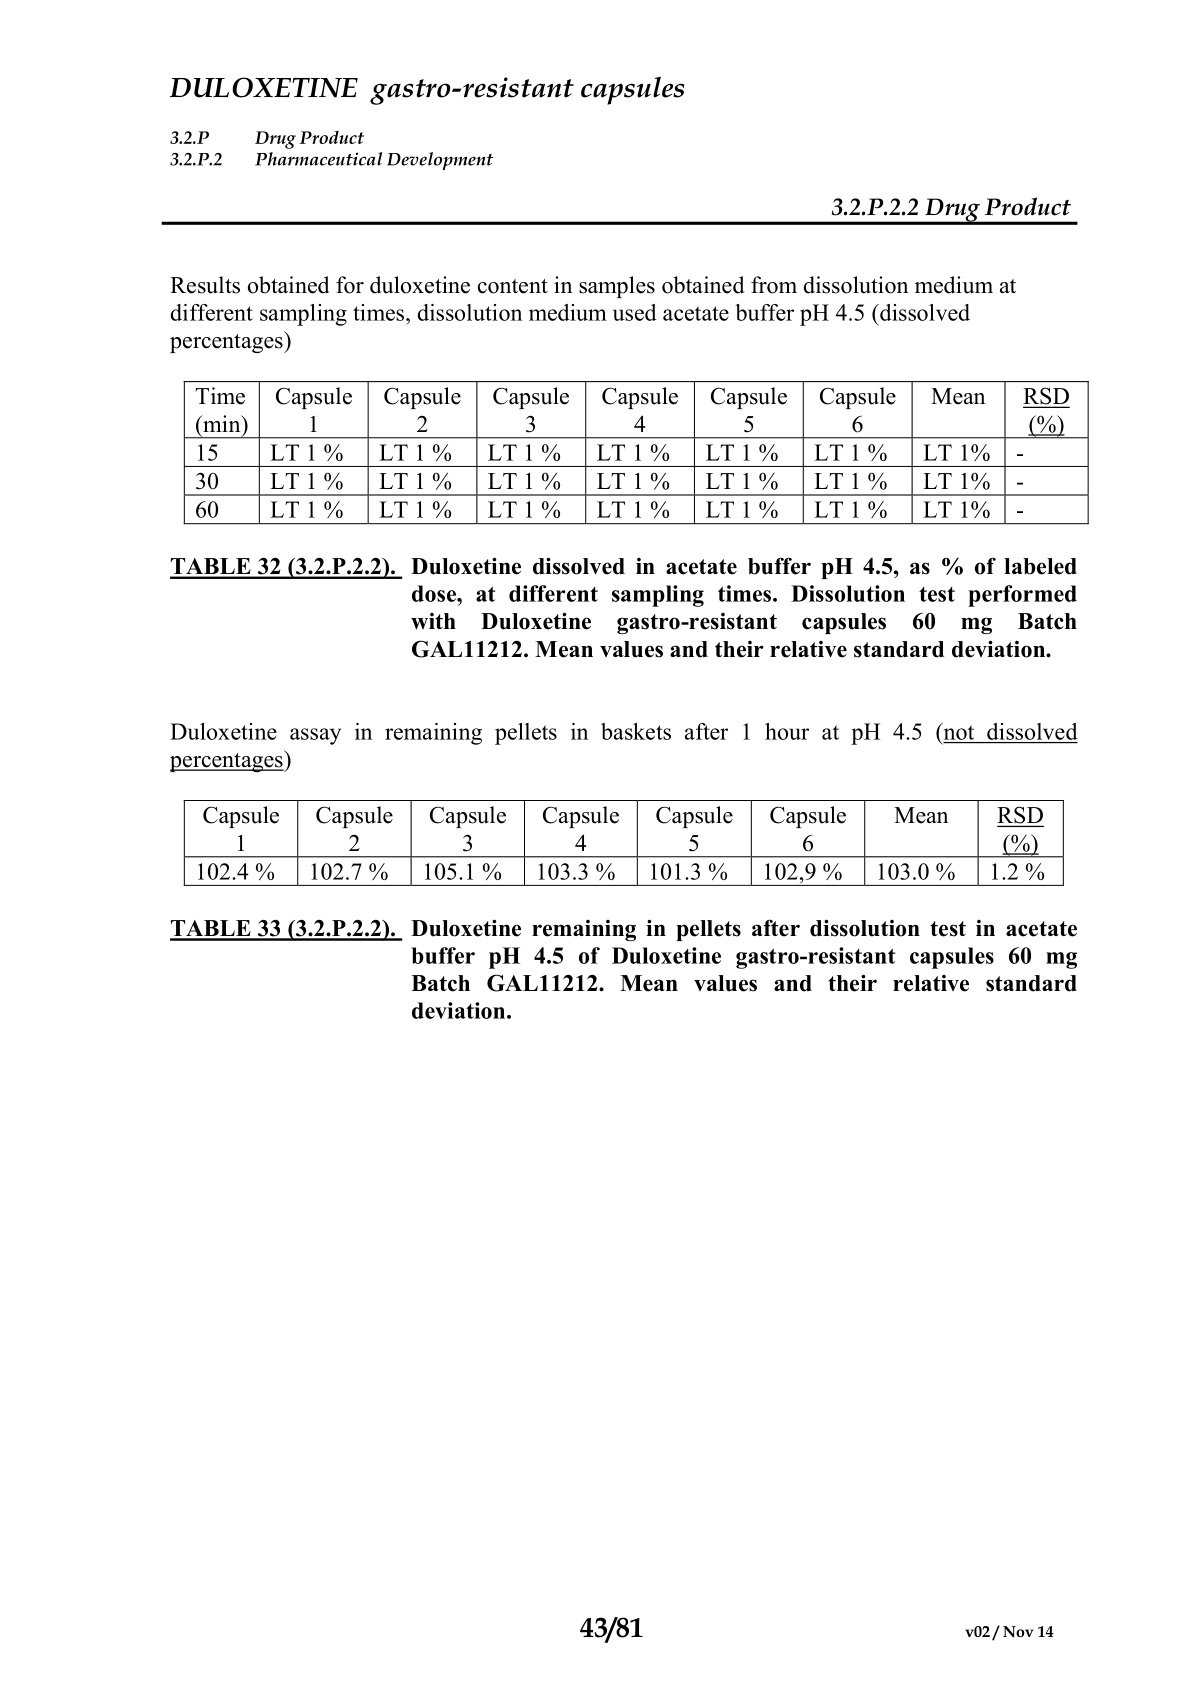full_lined: (183, 380, 1090, 524), (183, 799, 1065, 886)
